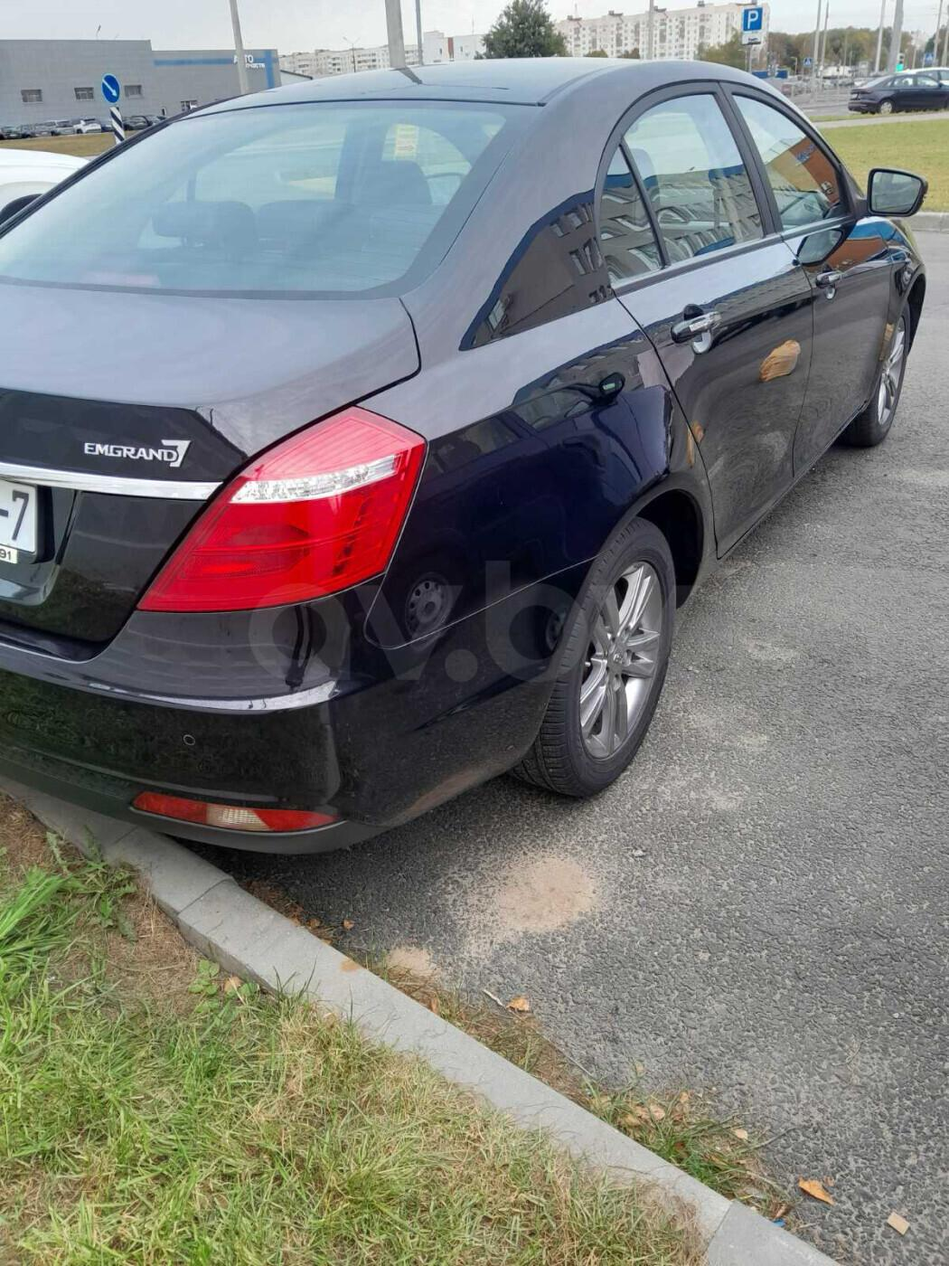Emgrand_2019-2021: (0, 61, 926, 852)
